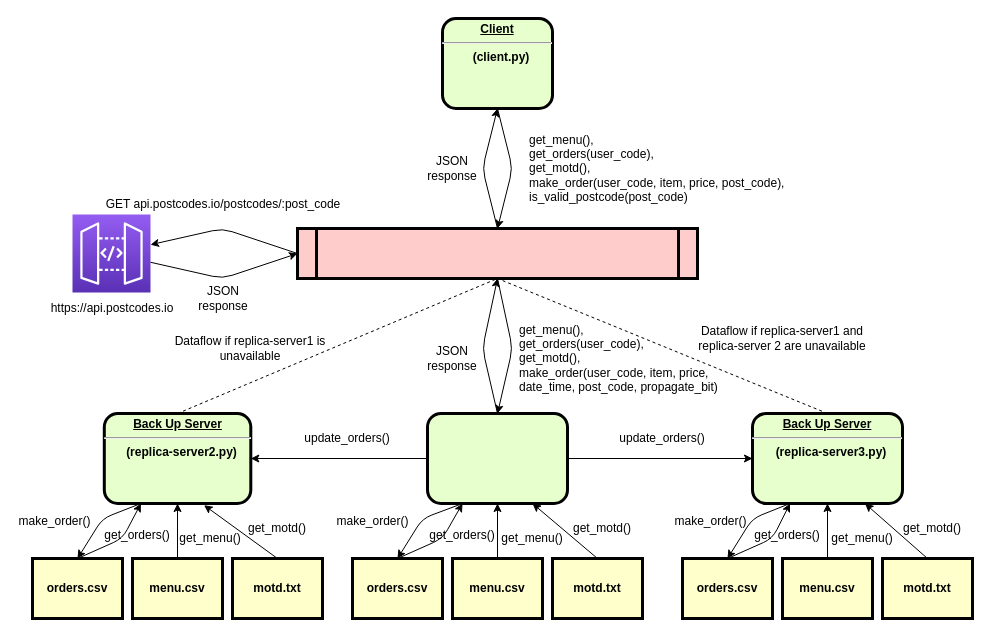
The diagram is 991 pixels wide and 637 high, and some of its shapes have lost their labels. Each missing label, with the box of its shape:
Front End Server (front-end-server.py): (296, 226, 698, 280)
Main Server (replica-server1.py): (426, 412, 568, 504)
